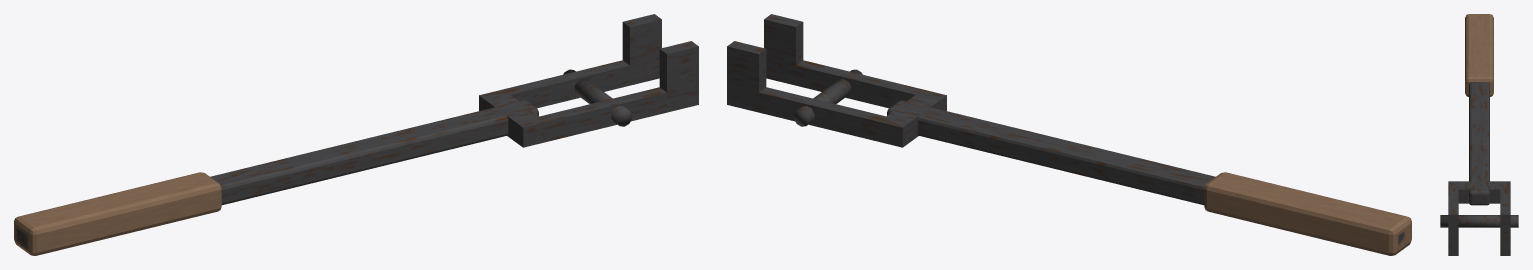
File: FL_CockingLever.fbx
The picture shows the model from 3 angles, left to right: view 1: azimuth 30°, elevation 25°; view 2: azimuth 150°, elevation 25°; view 3: azimuth 270°, elevation 25°; orthographic projection. The views are drawn at different scales.
Visible parts, largest first — view 1: FL_CockingLever; view 2: FL_CockingLever; view 3: FL_CockingLever.
Boxes of the visible parts, x1,y1,x2,y2 form: FL_CockingLever: (14, 14, 698, 255); FL_CockingLever: (727, 14, 1411, 255); FL_CockingLever: (1440, 14, 1518, 255).
Size of the model in its own units: 0.0342 by 0.00308 by 0.005.
